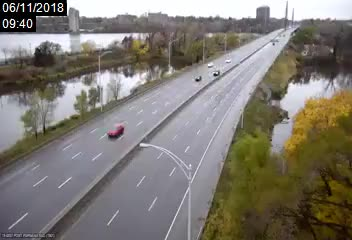personal_car: (107, 124, 124, 138), (193, 74, 203, 81), (212, 69, 221, 76), (224, 58, 232, 64), (207, 61, 214, 67)
